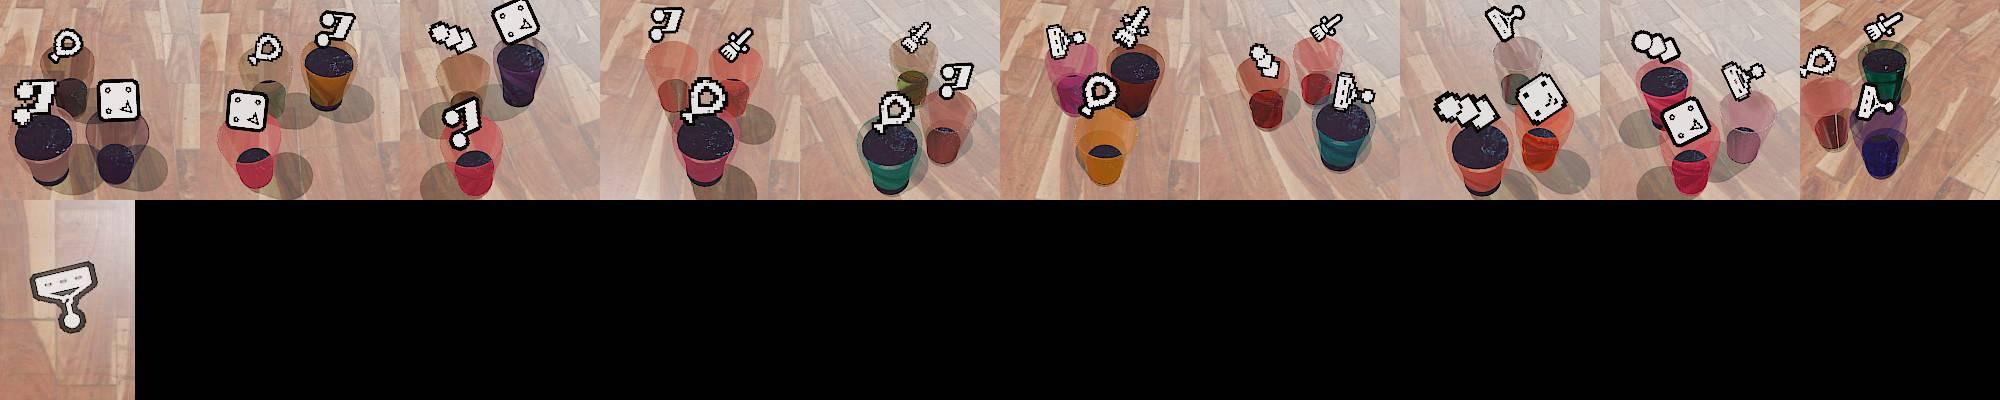icon: (25, 259, 100, 334), (1515, 71, 1568, 125), (1659, 94, 1712, 146), (1432, 90, 1498, 130), (441, 95, 484, 150), (490, 0, 541, 46), (1044, 20, 1093, 63), (1331, 71, 1377, 116), (96, 77, 142, 122), (12, 78, 60, 120), (872, 90, 916, 135), (225, 88, 270, 132), (684, 76, 729, 120), (1720, 60, 1766, 102), (1078, 75, 1120, 121), (427, 20, 478, 57), (1112, 5, 1152, 52), (1630, 29, 1681, 64), (1485, 4, 1527, 42), (1854, 83, 1896, 120), (717, 25, 756, 64), (648, 6, 687, 44), (317, 9, 358, 45), (937, 61, 975, 99), (245, 32, 286, 67), (48, 27, 85, 65), (1800, 44, 1839, 79), (1864, 11, 1904, 42), (1248, 42, 1281, 79), (900, 20, 932, 55), (1309, 12, 1343, 43)
